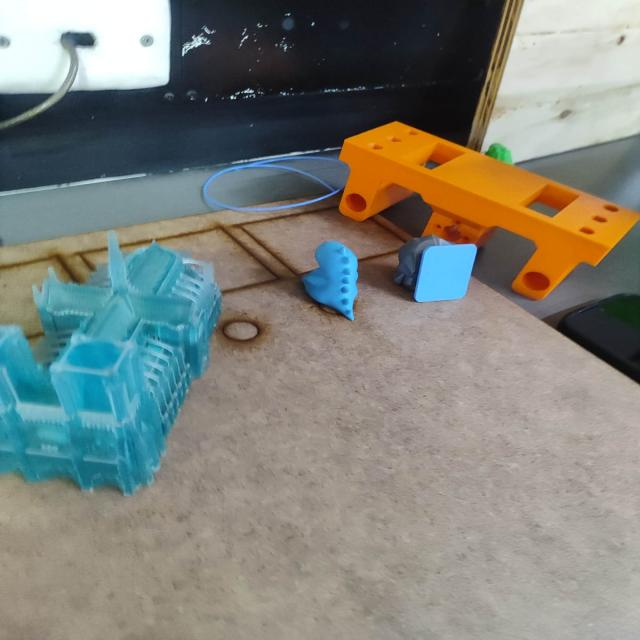DINO: (288, 231, 378, 319)
